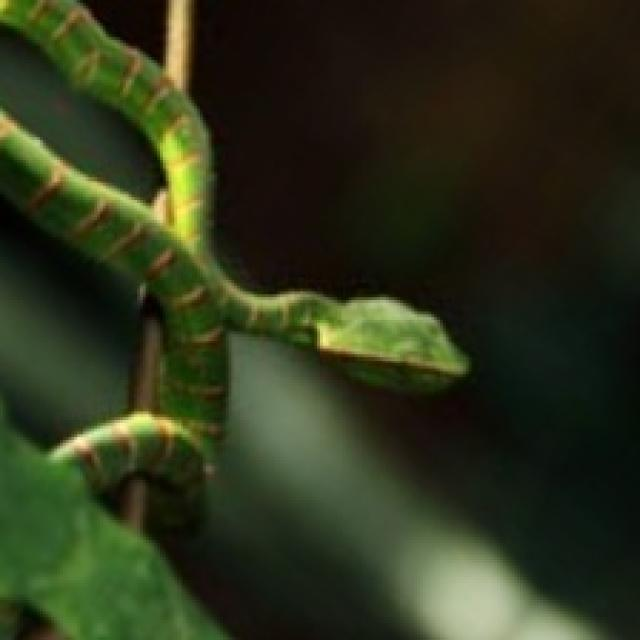north ph temple pitviper: (0, 0, 466, 489), (0, 106, 223, 526), (0, 0, 206, 223)
